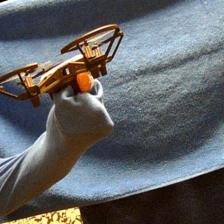drone: (0, 23, 126, 110)
